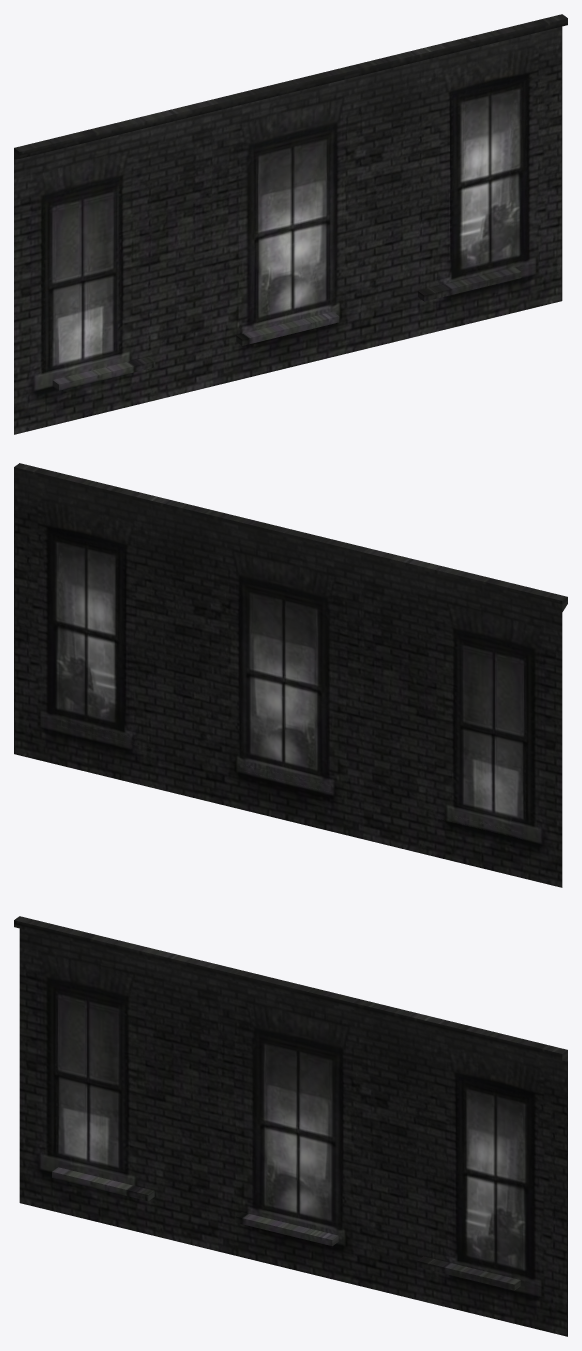
File: floor.obj
3 renders of one model, top to bottom at view 1: azimuth 30°, elevation 25°; view 2: azimuth 150°, elevation 25°; view 3: azimuth 330°, elevation 25°, orthographic.
Visible parts, largest first — view 1: group; view 2: group; view 3: group.
Boxes of the visible parts, x1=… form: group: x1=14, y1=14, x2=567, y2=434; group: x1=14, y1=463, x2=567, y2=887; group: x1=14, y1=916, x2=567, y2=1336.
Bounding box in the file's own units: 10 × 5 × 0.197.
